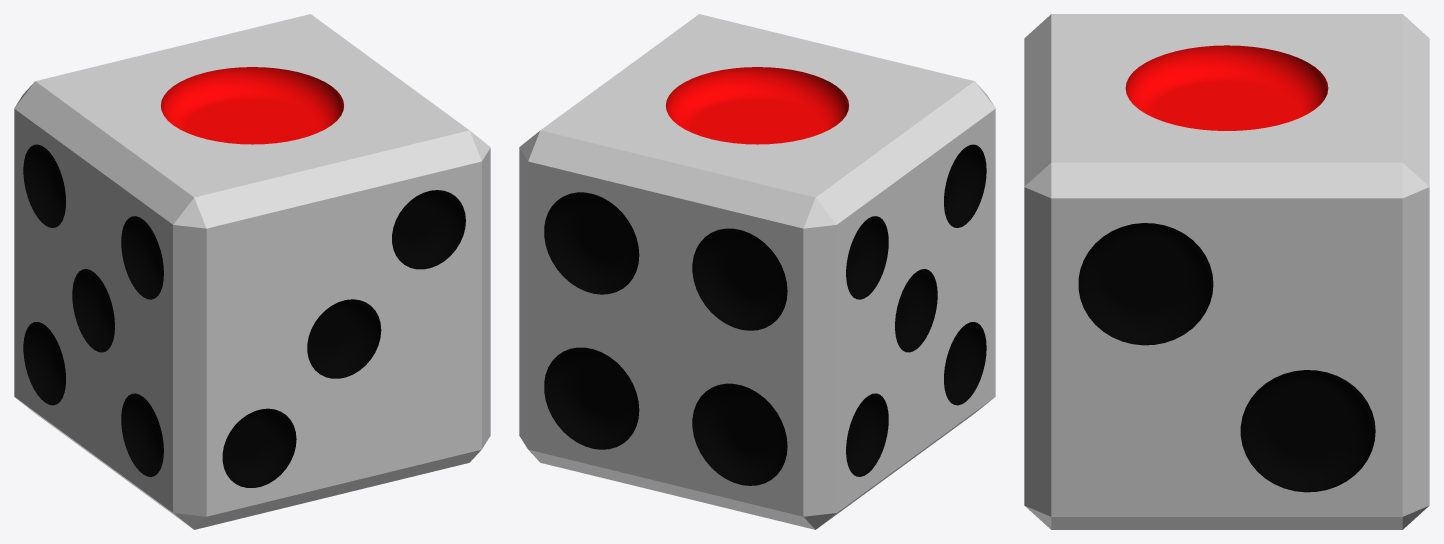
Rendered from saikoro.glb.
3 renders of one model, left to right at view 1: azimuth 30°, elevation 25°; view 2: azimuth 150°, elevation 25°; view 3: azimuth 270°, elevation 25°, orthographic. The views are drawn at different scales.
Parts seen in each view (by area): view 1: さいころ; view 2: さいころ; view 3: さいころ.
Part boxes in pixels (x1,y1,x2,y2): さいころ: (14, 14, 490, 529); さいころ: (519, 14, 995, 529); さいころ: (1024, 14, 1429, 529).
Bounding box in the file's own units: 0.03 × 0.03 × 0.03.
